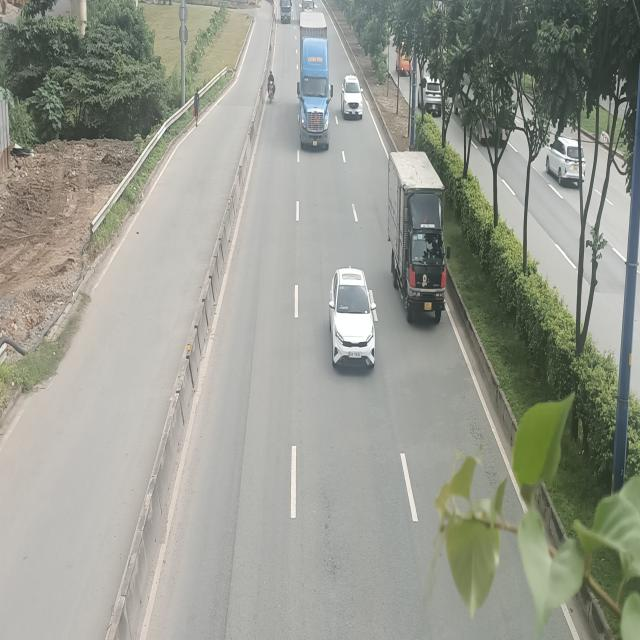car: (329, 267, 378, 367), (341, 76, 364, 119)
container: (296, 12, 333, 147)
truck: (386, 150, 450, 323)
